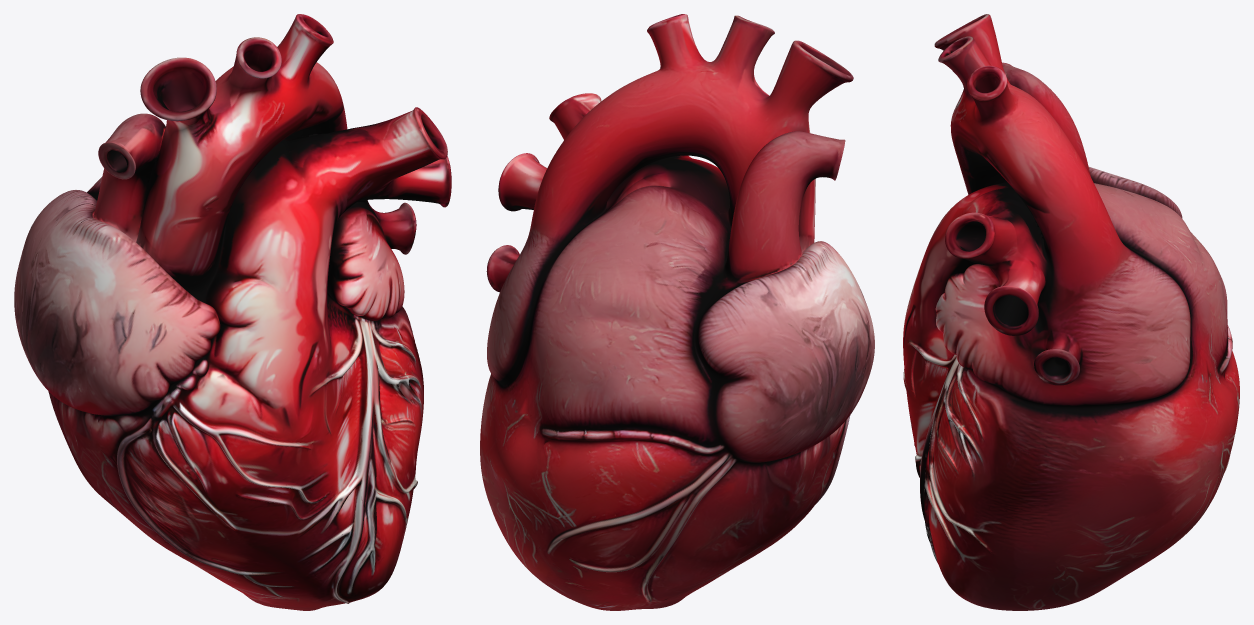
File: heart.glb
3 views of the same model, side by side, from view 1: azimuth 30°, elevation 25°; view 2: azimuth 150°, elevation 25°; view 3: azimuth 270°, elevation 25° (orthographic). The views are drawn at different scales.
Visible parts, largest first — view 1: node_0; view 2: node_0; view 3: node_0.
Part boxes in pixels (x1,y1,x2,y2): node_0: [14, 14, 451, 610]; node_0: [480, 14, 874, 610]; node_0: [903, 14, 1239, 610].
Bounding box in the file's own units: 0.7325 × 1.11 × 0.6421.
1 material, 1 textured.
